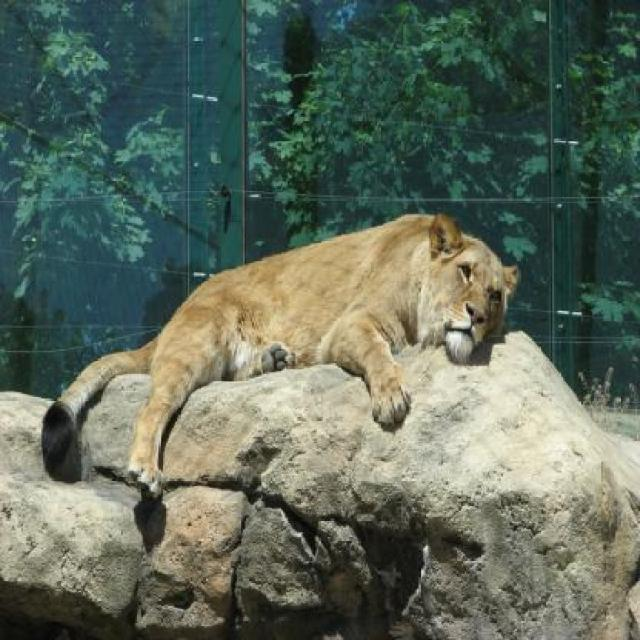Lion: (32, 198, 525, 518)
